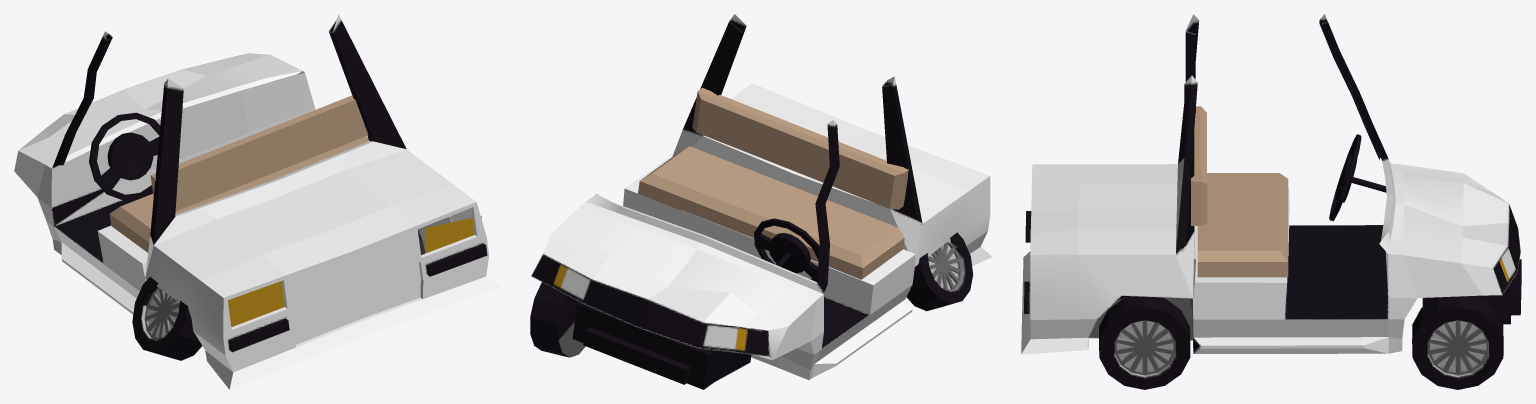
File: Caddie_damaged_3.fbx
The picture shows the model from 3 angles, left to right: view 1: azimuth 30°, elevation 25°; view 2: azimuth 150°, elevation 25°; view 3: azimuth 270°, elevation 25°; orthographic projection. The views are drawn at different scales.
Visible parts, largest first — view 1: car_DAMAGE 3; view 2: car_DAMAGE 3; view 3: car_DAMAGE 3.
Boxes of the visible parts, <box> form: car_DAMAGE 3: <box>14,14,501,389</box>; car_DAMAGE 3: <box>530,14,992,389</box>; car_DAMAGE 3: <box>1021,14,1521,389</box>.
Size of the model in its own units: 147 by 130 by 205.
